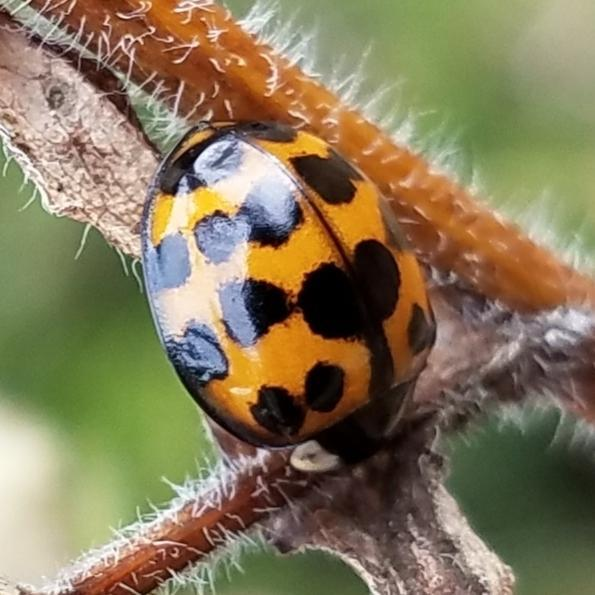ladybug: (139, 116, 441, 479)
